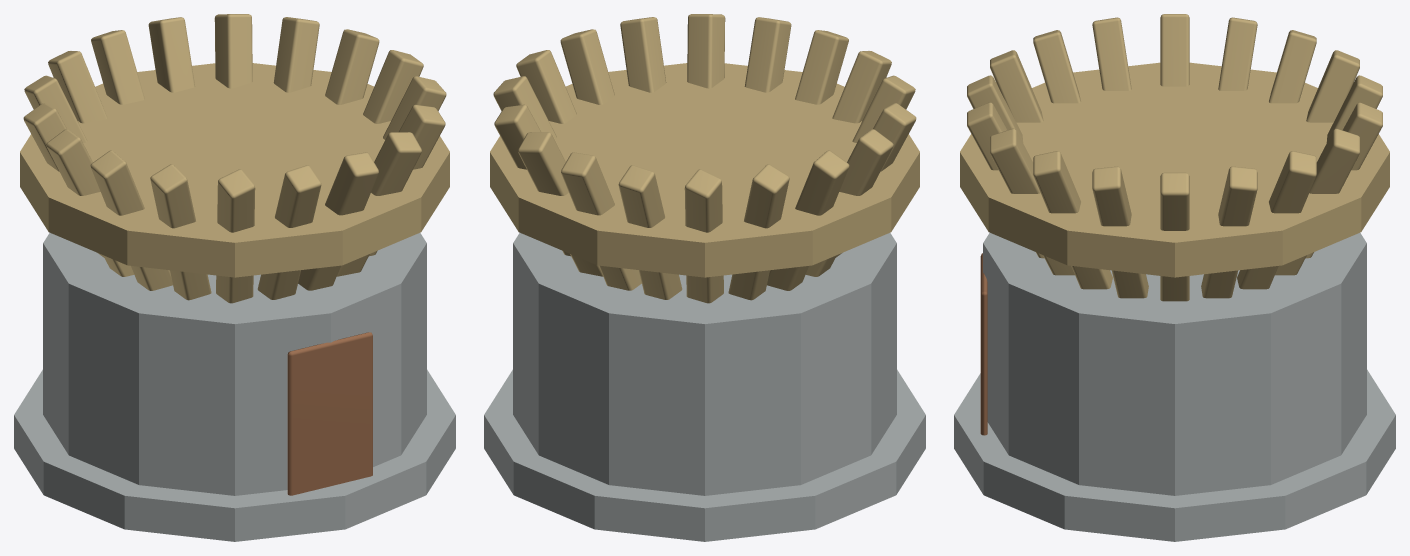
File: Dwelling.fbx
3 views of the same model, side by side, from view 1: azimuth 30°, elevation 25°; view 2: azimuth 150°, elevation 25°; view 3: azimuth 270°, elevation 25° (orthographic).
Parts seen in each view (by area): view 1: Dwelling_Wall, Dwelling_Roof, Dwelling_Floor, Dwelling_Door, Dwelling_Reed.013, Dwelling_Reed.014, Dwelling_Reed.011, Dwelling_Reed.012, Dwelling_Reed.010, Dwelling_Reed.001, Dwelling_Reed.002, Dwelling_Reed.003 (+10 smaller); view 2: Dwelling_Wall, Dwelling_Roof, Dwelling_Floor, Dwelling_Reed.005, Dwelling_Reed.004, Dwelling_Reed.007, Dwelling_Reed.006, Dwelling_Reed.008, Dwelling_Reed.017, Dwelling_Reed.016, Dwelling_Reed.015, Dwelling_Reed.014 (+9 smaller); view 3: Dwelling_Wall, Dwelling_Roof, Dwelling_Floor, Dwelling_Reed.002, Dwelling_Reed.016, Dwelling_Reed.001, Dwelling_Reed.017, Dwelling_Reed, Dwelling_Reed.003, Dwelling_Reed.015, Dwelling_Reed.006, Dwelling_Reed.012 (+10 smaller).
Part boxes in pixels (x1,y1,x2,y2): Dwelling_Wall: (43, 233, 426, 495); Dwelling_Roof: (20, 63, 449, 277); Dwelling_Floor: (14, 369, 455, 541); Dwelling_Door: (287, 332, 372, 495); Dwelling_Reed.013: (257, 165, 321, 299); Dwelling_Reed.014: (298, 152, 378, 290); Dwelling_Reed.011: (150, 164, 211, 300); Dwelling_Reed.012: (216, 169, 255, 303); Dwelling_Reed.010: (90, 150, 172, 290); Dwelling_Reed.001: (325, 29, 379, 104); Dwelling_Reed.002: (273, 17, 319, 92); Dwelling_Reed.003: (214, 14, 252, 88); Dwelling_Wall: (513, 233, 896, 495); Dwelling_Roof: (490, 63, 919, 277); Dwelling_Floor: (484, 369, 925, 541); Dwelling_Reed.005: (618, 165, 682, 299); Dwelling_Reed.004: (561, 152, 641, 290); Dwelling_Reed.007: (728, 164, 789, 300); Dwelling_Reed.006: (684, 169, 723, 303); Dwelling_Reed.008: (767, 150, 849, 290); Dwelling_Reed.017: (560, 29, 614, 104); Dwelling_Reed.016: (620, 17, 666, 92); Dwelling_Reed.015: (687, 14, 725, 88); Dwelling_Reed.014: (744, 17, 791, 92); Dwelling_Wall: (983, 233, 1366, 495); Dwelling_Roof: (960, 62, 1389, 277); Dwelling_Floor: (954, 369, 1395, 541); Dwelling_Reed.002: (1237, 151, 1316, 289); Dwelling_Reed.016: (1033, 151, 1112, 289); Dwelling_Reed.001: (1201, 166, 1257, 298); Dwelling_Reed.017: (1092, 166, 1148, 298); Dwelling_Reed: (1160, 172, 1189, 301); Dwelling_Reed.003: (1275, 128, 1359, 275); Dwelling_Reed.015: (990, 128, 1074, 275); Dwelling_Reed.006: (1306, 50, 1359, 122); Dwelling_Reed.012: (990, 50, 1043, 122).
Size of the model in its own units: 380 by 338 by 380.
